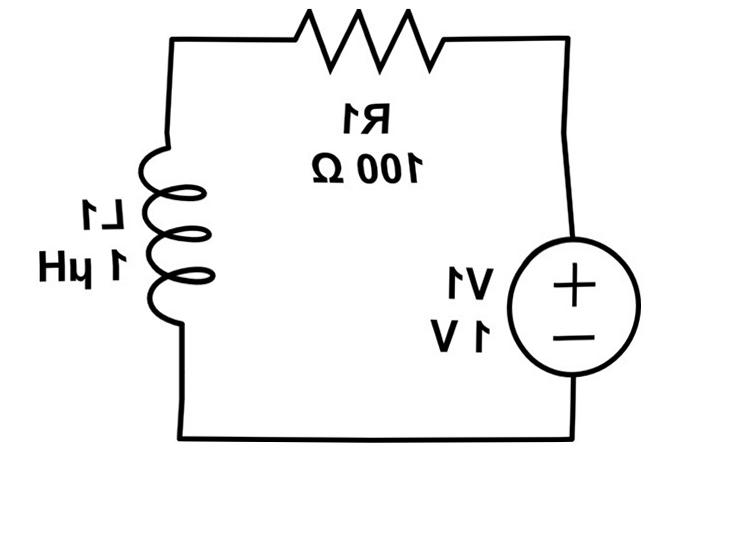Battery: (490, 223, 672, 395)
